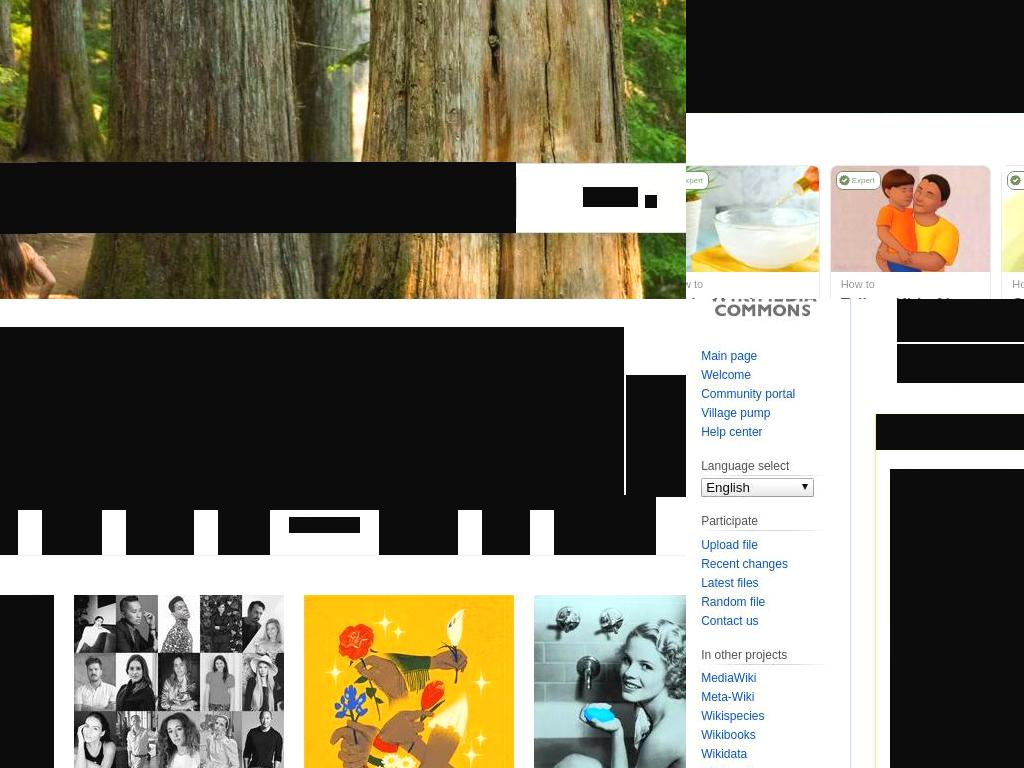button: (74, 595, 284, 768), (304, 595, 514, 768), (534, 595, 686, 768), (830, 166, 991, 299), (686, 166, 819, 299), (0, 595, 54, 768), (554, 495, 656, 555), (379, 495, 458, 555), (126, 495, 194, 555), (42, 495, 102, 555), (218, 495, 270, 555), (482, 495, 530, 555), (0, 163, 37, 234), (0, 495, 18, 555)
field: (37, 162, 516, 233), (701, 477, 815, 497)
heading: (686, 299, 855, 768), (701, 458, 833, 473), (701, 513, 833, 528), (701, 647, 833, 662)
iframe: (626, 375, 686, 497), (643, 453, 686, 495)
image: (0, 327, 624, 510), (890, 469, 1024, 768), (686, 0, 1024, 113), (74, 595, 284, 768), (304, 595, 514, 768), (534, 595, 686, 768), (830, 166, 991, 273), (686, 166, 819, 273), (0, 595, 54, 768), (0, 180, 10, 217), (645, 195, 657, 208)
link: (897, 344, 1024, 383), (701, 386, 796, 401), (701, 556, 789, 571), (289, 517, 360, 533), (701, 405, 771, 420), (701, 594, 766, 609), (701, 709, 766, 724), (701, 424, 764, 439), (701, 575, 760, 590), (701, 613, 760, 628), (701, 537, 759, 552), (701, 348, 758, 363), (701, 671, 758, 686), (701, 728, 757, 743), (701, 690, 756, 705), (701, 367, 752, 382), (701, 747, 748, 762), (986, 344, 1024, 361)
text: (897, 299, 1024, 342), (876, 414, 1024, 450), (897, 344, 988, 361), (583, 187, 638, 207), (835, 171, 881, 191), (686, 171, 710, 191), (840, 278, 875, 291), (1007, 171, 1024, 191), (686, 278, 703, 291), (1012, 278, 1024, 291)
